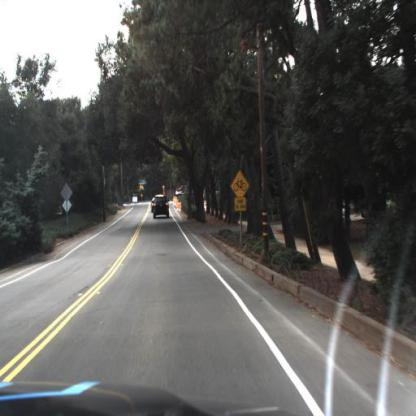car: (151, 193, 172, 223), (149, 194, 157, 215)
